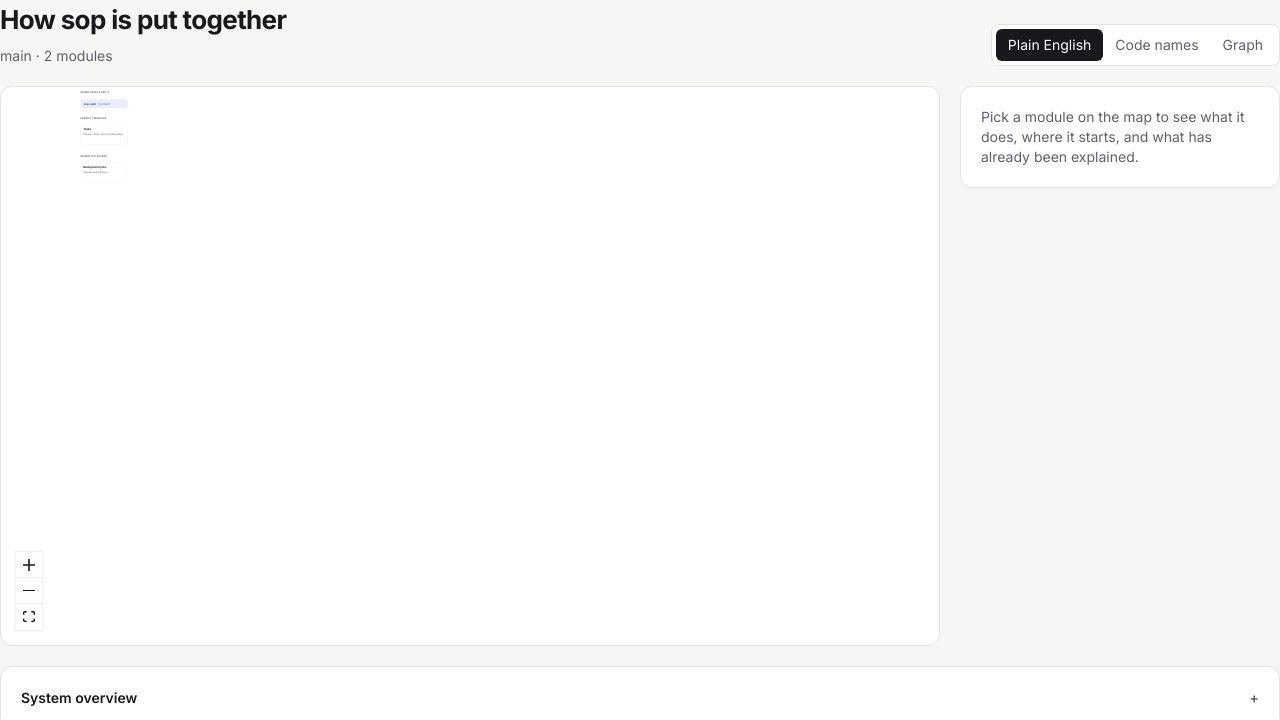
Scenario: system overview renders markdown and the diagram
Click the button "System overview +".
click(79, 698)  # box [21,687,1259,708]
(page scrolled)
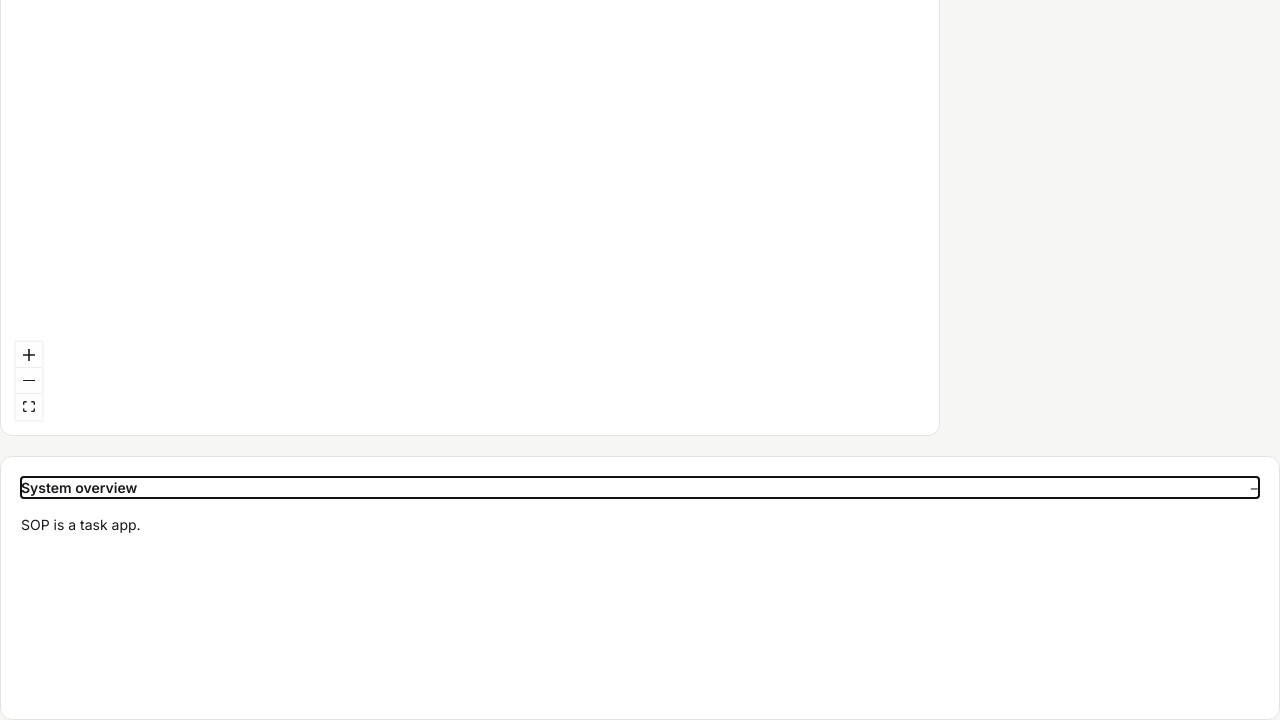
Now the text "SOP is a task app." is shown, box [21,516,141,533]
